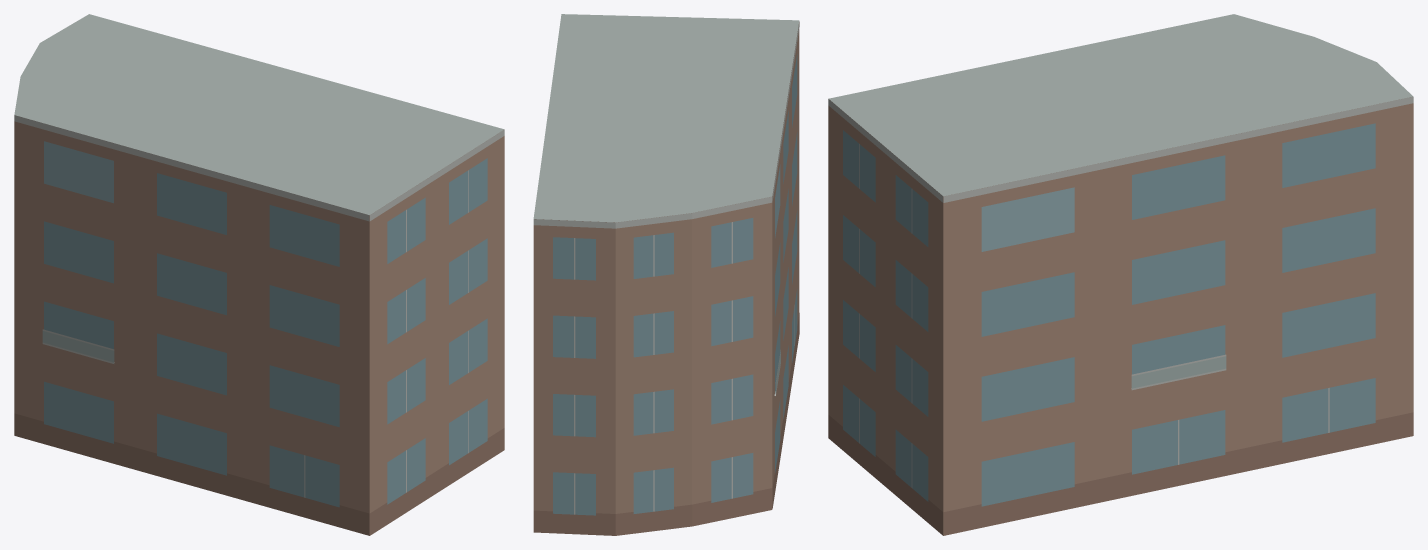
File: survey-upis-32924193.glb
The picture shows the model from 3 angles, left to right: view 1: azimuth 30°, elevation 25°; view 2: azimuth 150°, elevation 25°; view 3: azimuth 270°, elevation 25°; orthographic projection. The views are drawn at different scales.
Visible parts, largest first — view 1: survey-upis-32924193.tmp; view 2: survey-upis-32924193.tmp; view 3: survey-upis-32924193.tmp.
Boxes of the visible parts, <box> form: survey-upis-32924193.tmp: <box>14,14,504,535</box>; survey-upis-32924193.tmp: <box>533,14,799,535</box>; survey-upis-32924193.tmp: <box>828,14,1413,535</box>.
Bounding box in the file's own units: 14.3 × 12.4 × 19.38.
